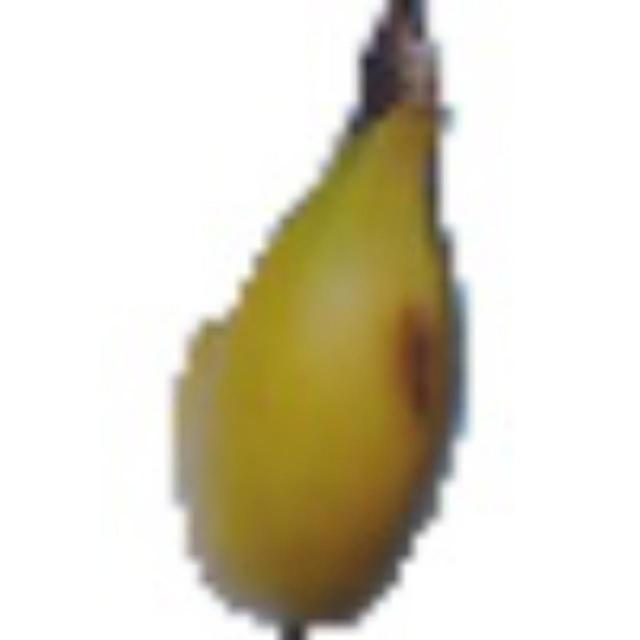banana: (160, 0, 486, 634)
